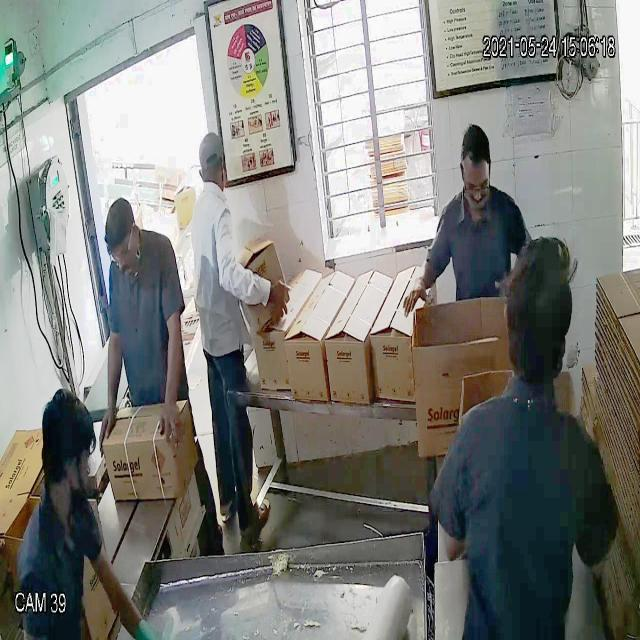glasses: (457, 157, 497, 196)
